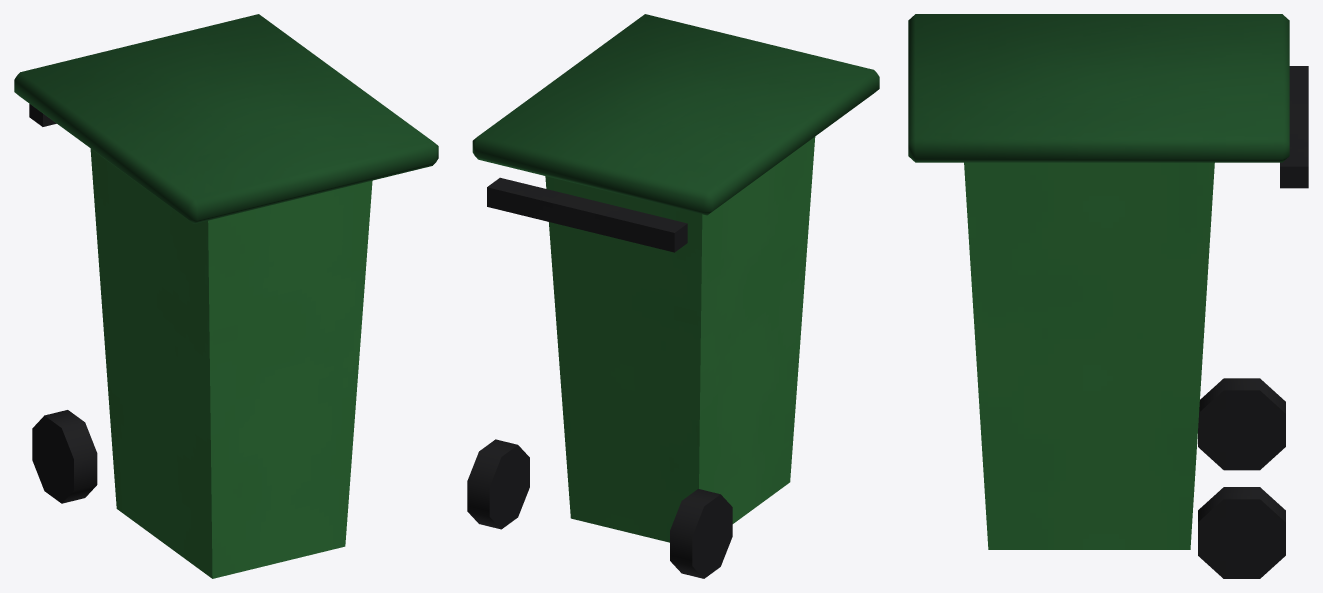
The model's file is lixeira_container.glb.
3 renders of one model, left to right at view 1: azimuth 30°, elevation 25°; view 2: azimuth 150°, elevation 25°; view 3: azimuth 270°, elevation 25°, orthographic. The views are drawn at different scales.
Parts seen in each view (by area): view 1: Inteiro; view 2: Inteiro; view 3: Inteiro.
Part boxes in pixels (x1=…): Inteiro: x1=14, y1=14, x2=438, y2=578; Inteiro: x1=467, y1=14, x2=879, y2=578; Inteiro: x1=908, y1=14, x2=1308, y2=578.
Bounding box in the file's own units: 0.65 × 1.02 × 0.84.
Materials: 1 (1 with a texture image).
